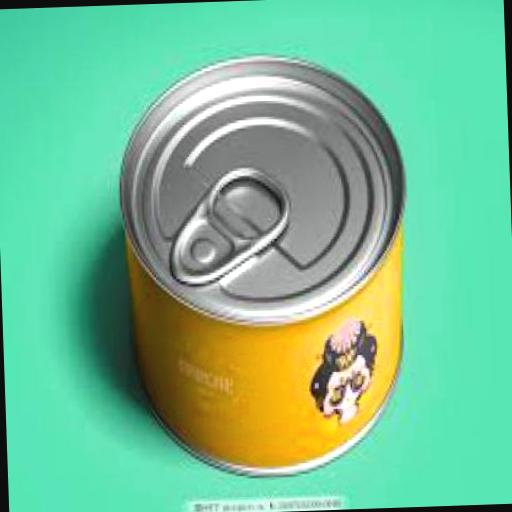metal: (115, 48, 414, 479)
